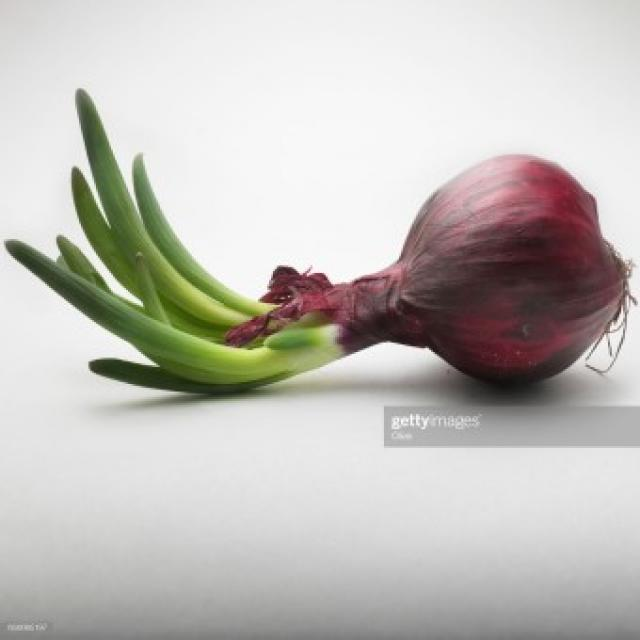Onion: (4, 88, 344, 397), (339, 153, 637, 387)
